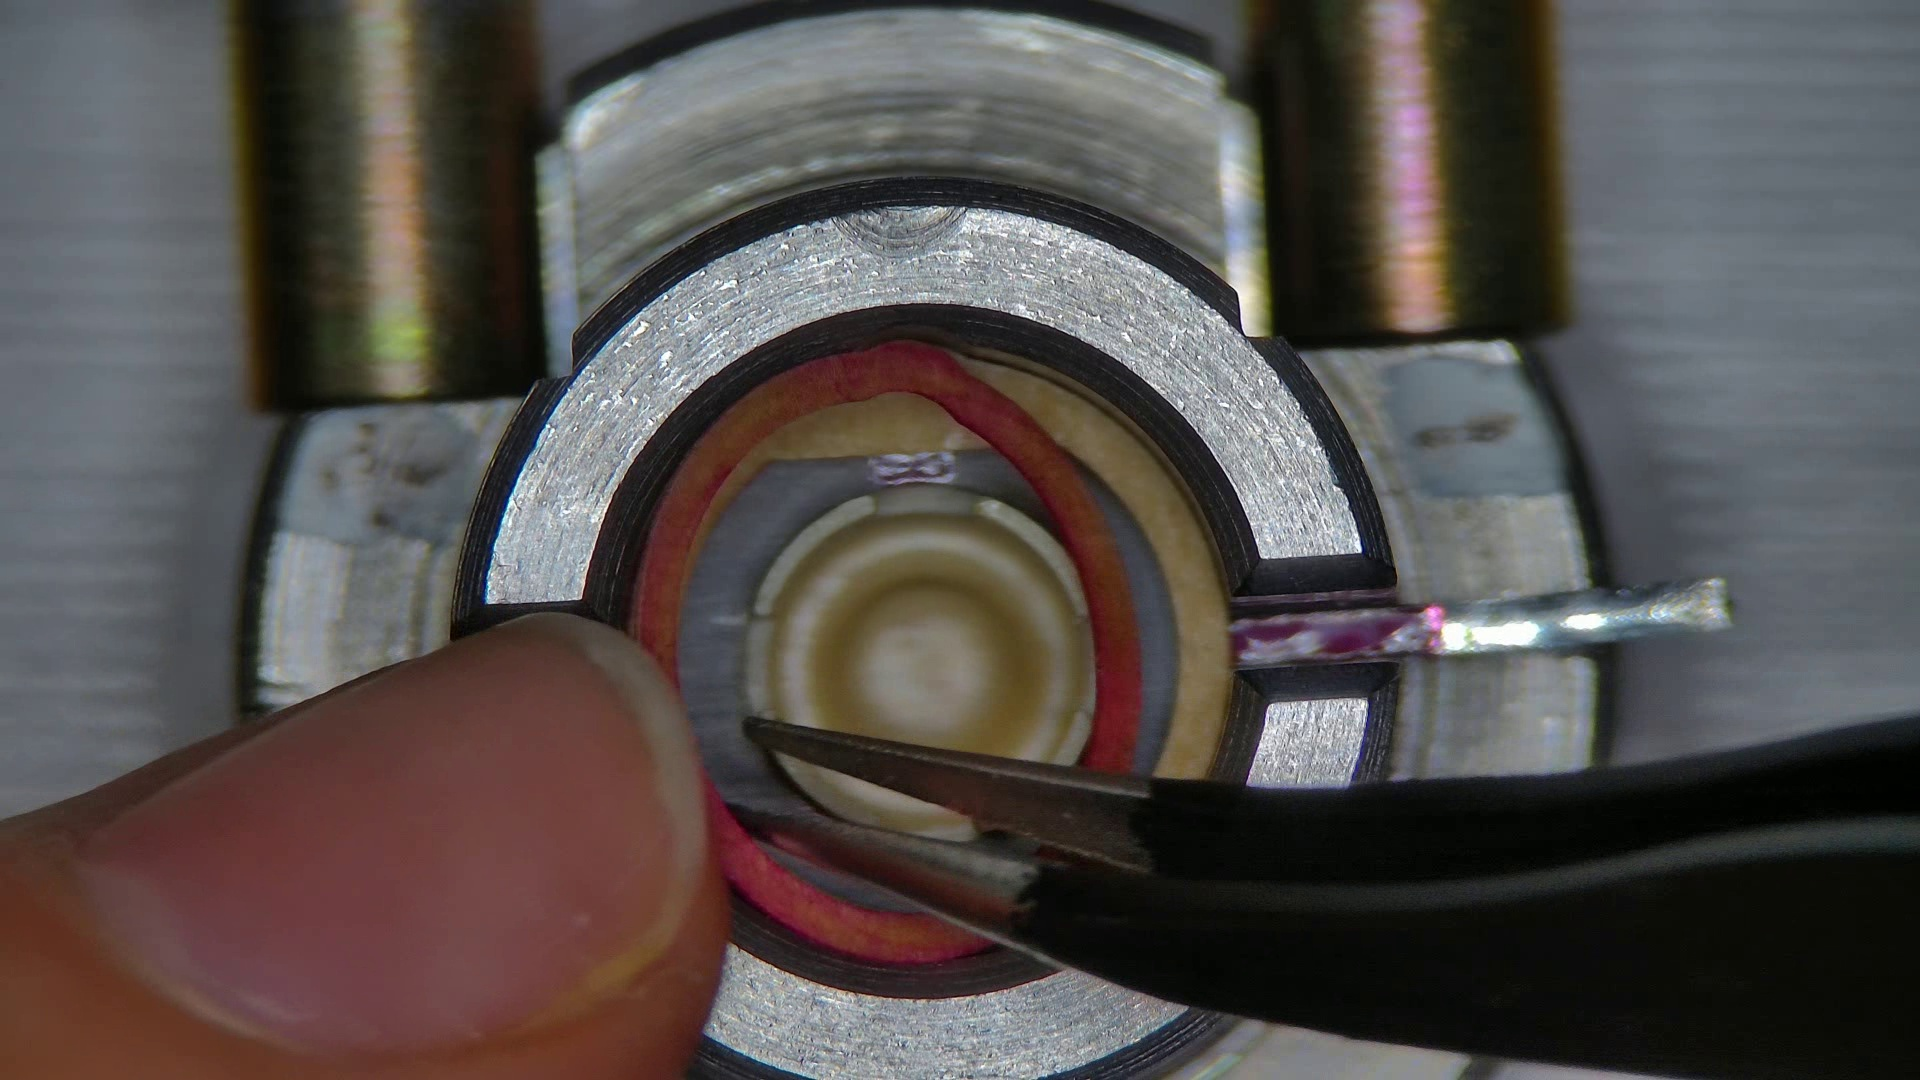GreyOring: (638, 342, 1138, 779), (717, 790, 975, 965)
YellowOring: (682, 448, 1047, 822), (1081, 471, 1174, 779), (773, 847, 913, 913), (984, 836, 1044, 856)
redOring: (934, 344, 1229, 779), (684, 393, 986, 600)
